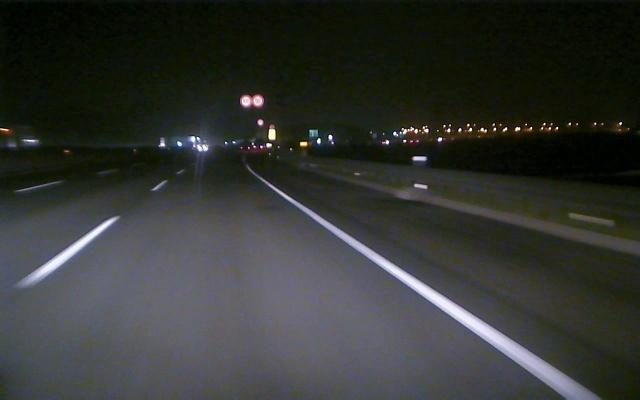lane: (261, 178, 599, 396), (10, 181, 164, 295), (13, 169, 120, 194)
